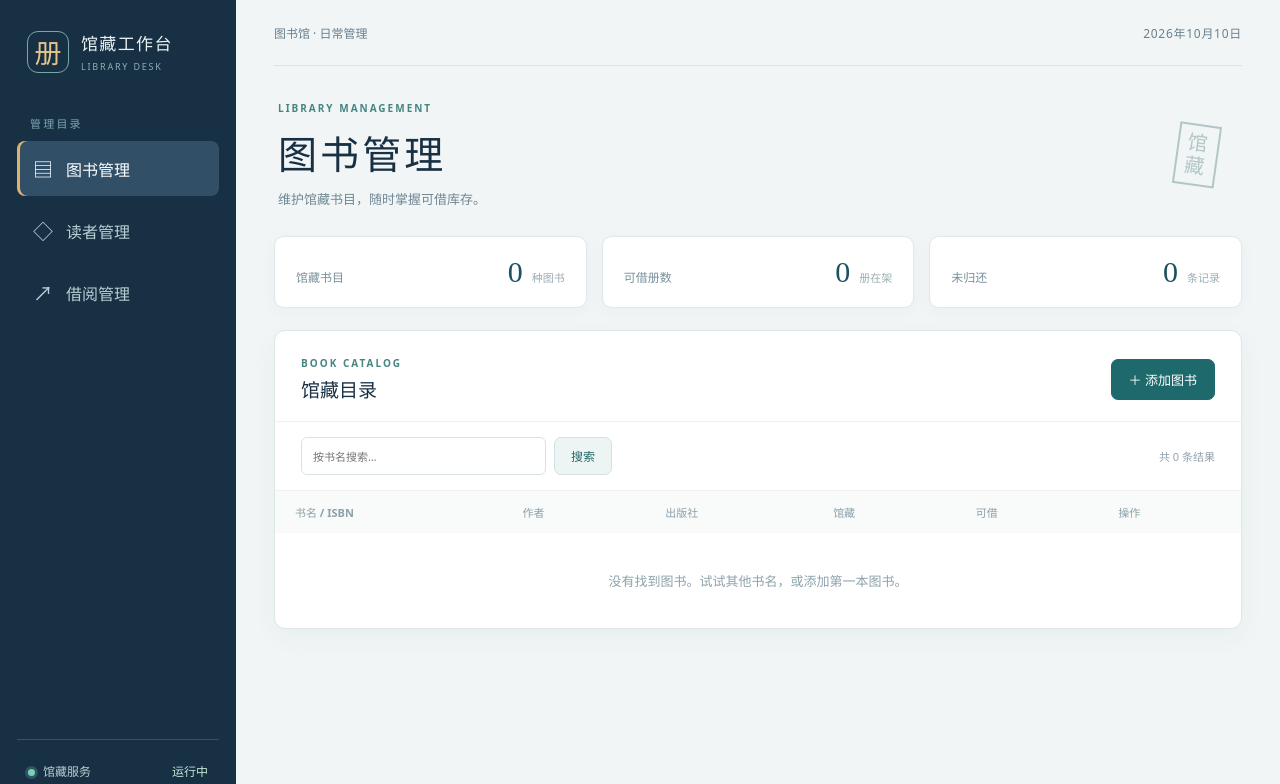
Test: keeps the reader form open when the server rejects it
Click the button "◇ 读者管理": point(118, 230) [17,203,219,258]
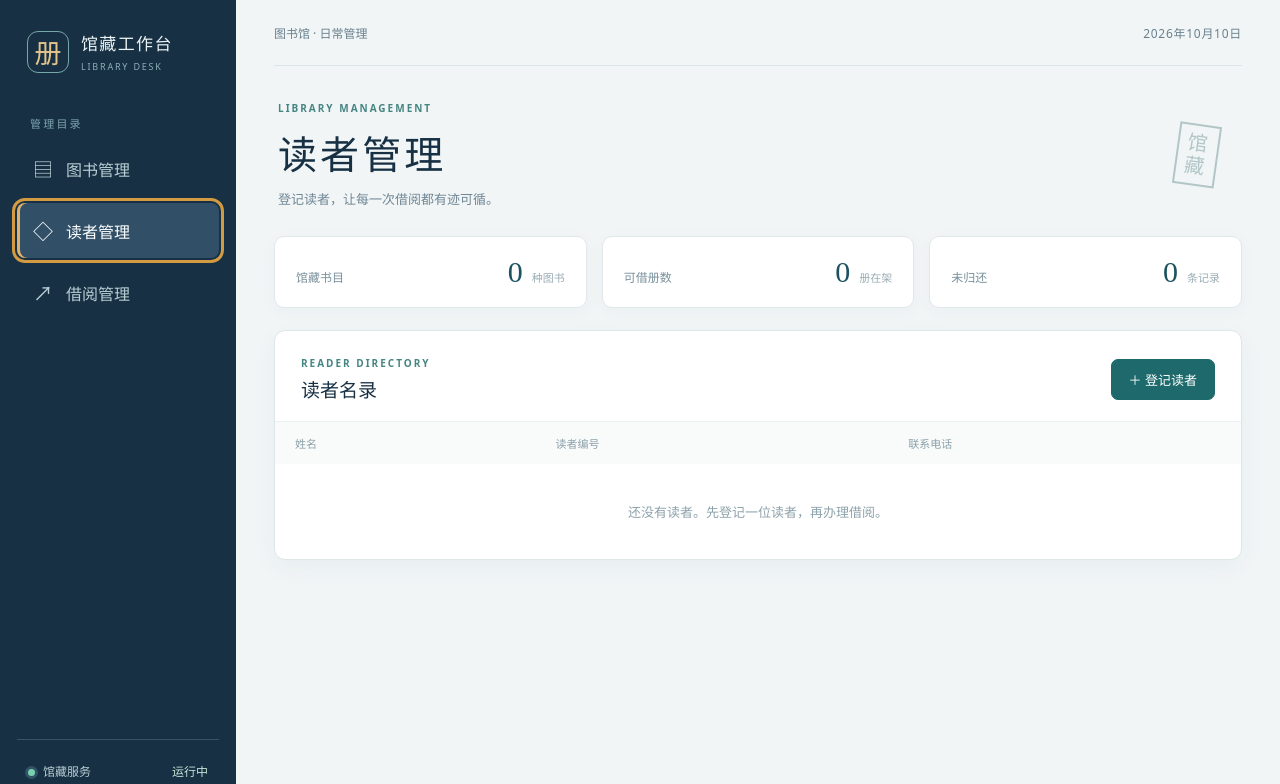
Expected: the button "＋ 登记读者" is shown
Click the button "＋ 登记读者": point(1163, 380) [1111,359,1215,400]
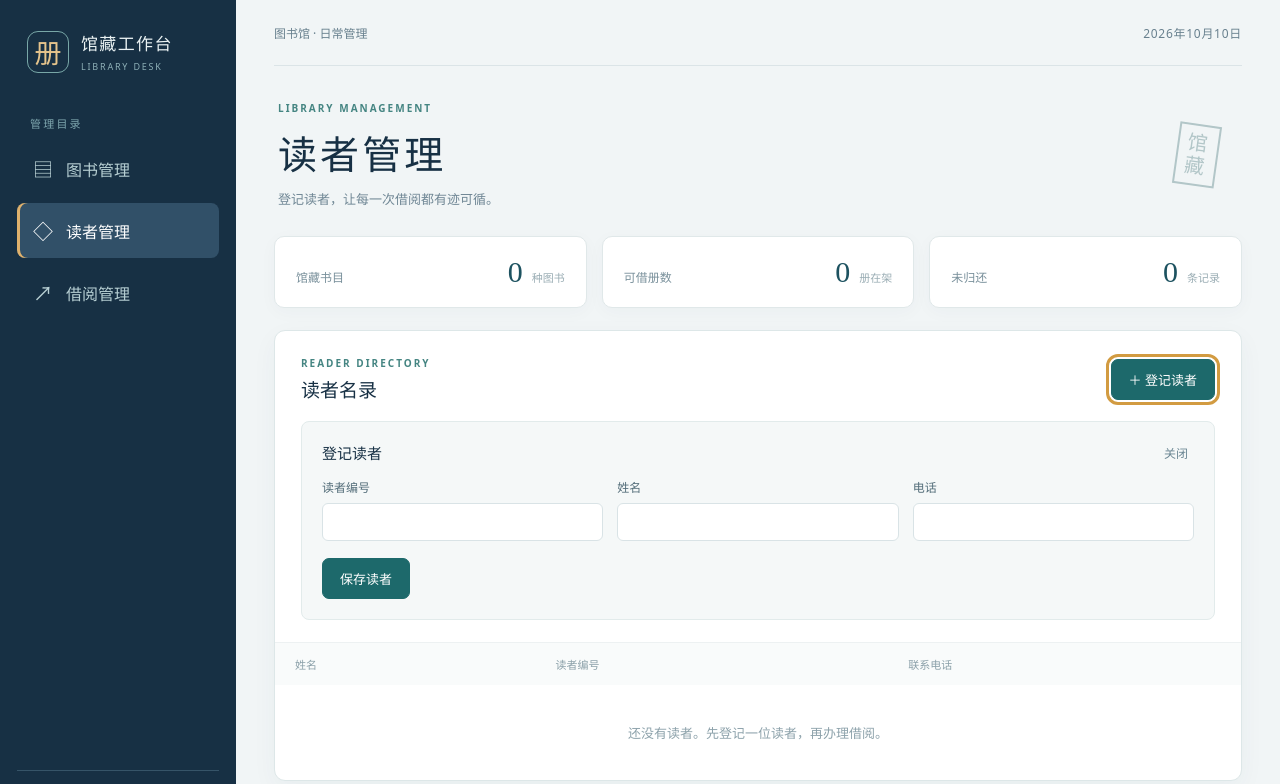
In the field labelled "读者编号": point(463, 522) [322,503,603,541], type "R-1"
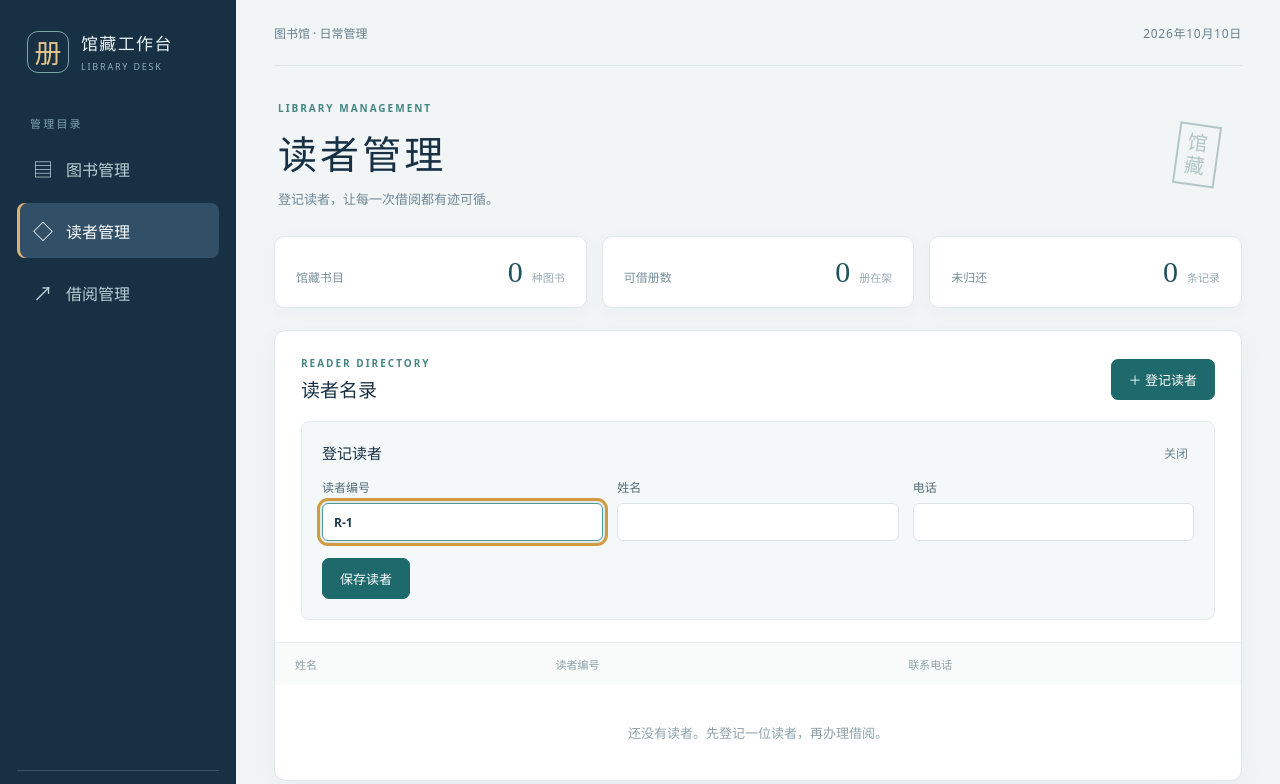
In the field labelled "姓名": point(758, 522) [617,503,899,541], type "林同学"
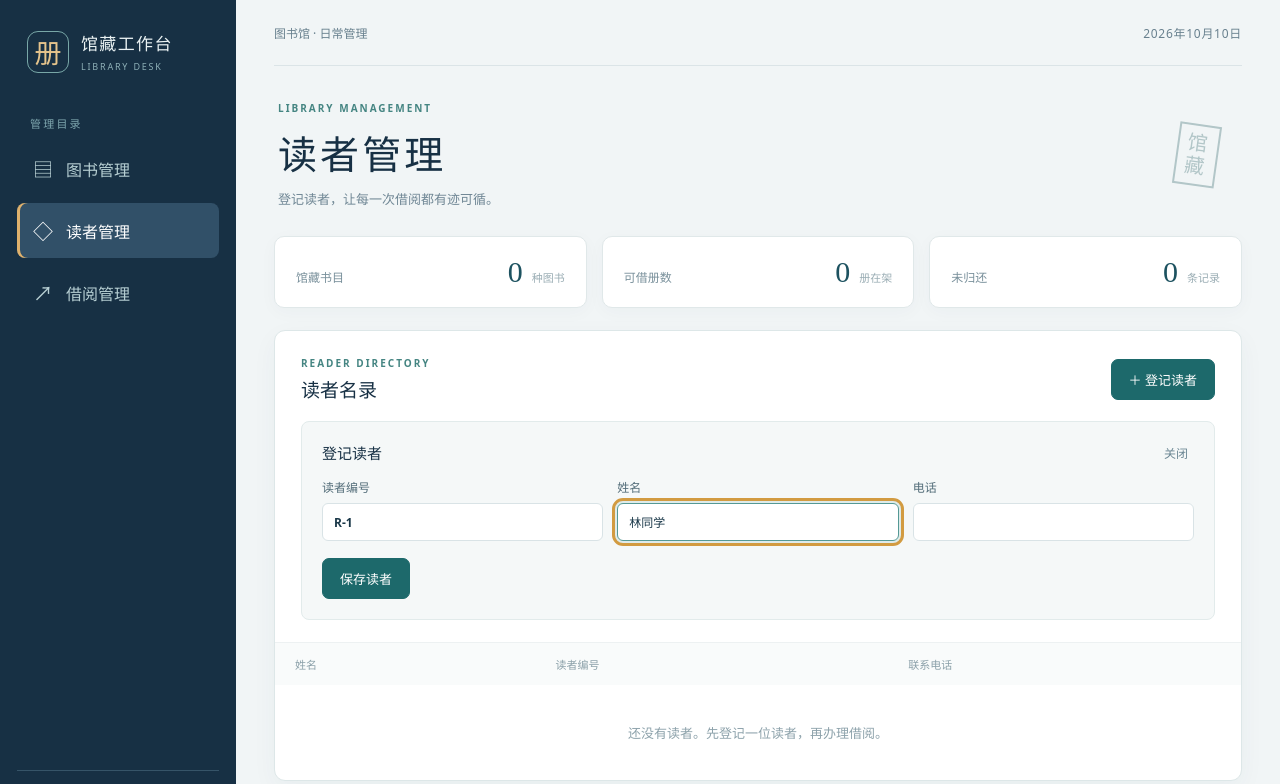
Click the button "保存读者": point(366, 578) [322,558,410,599]
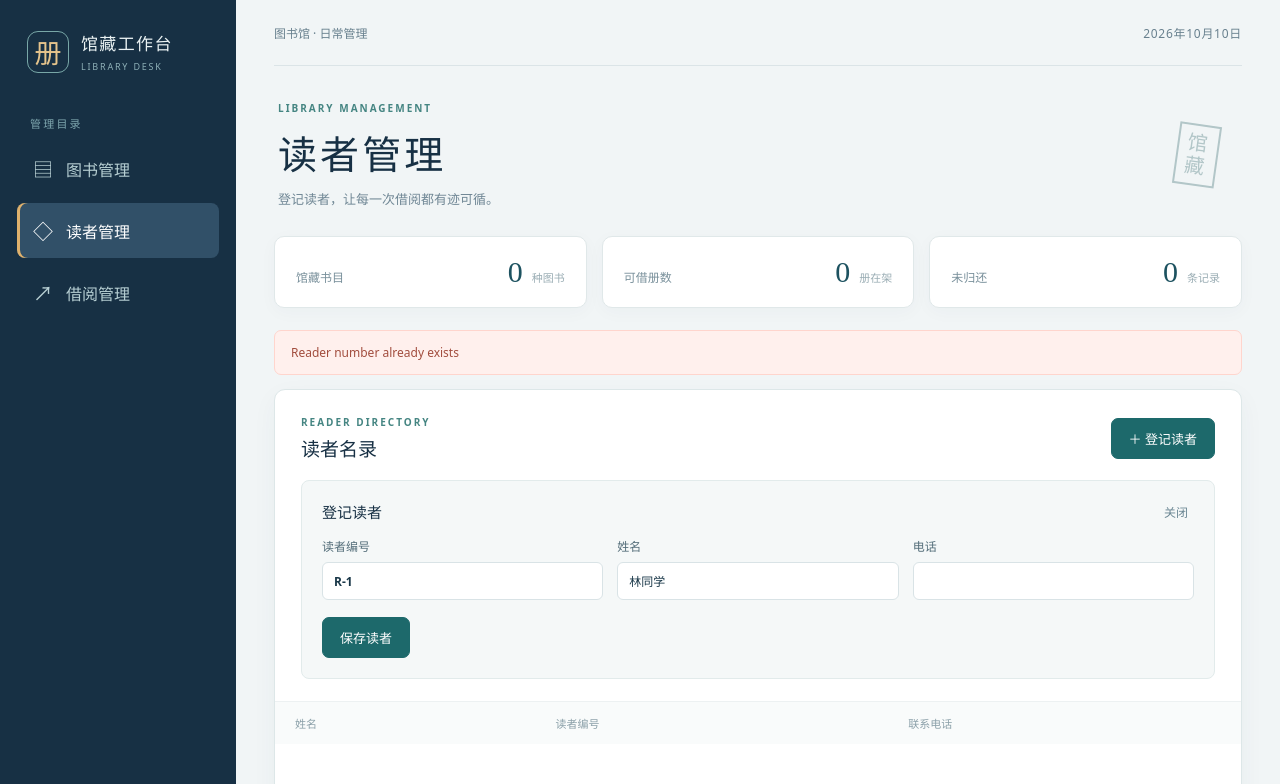
Expected: the message "Reader number already exists" is shown, [274,330,1242,375]
